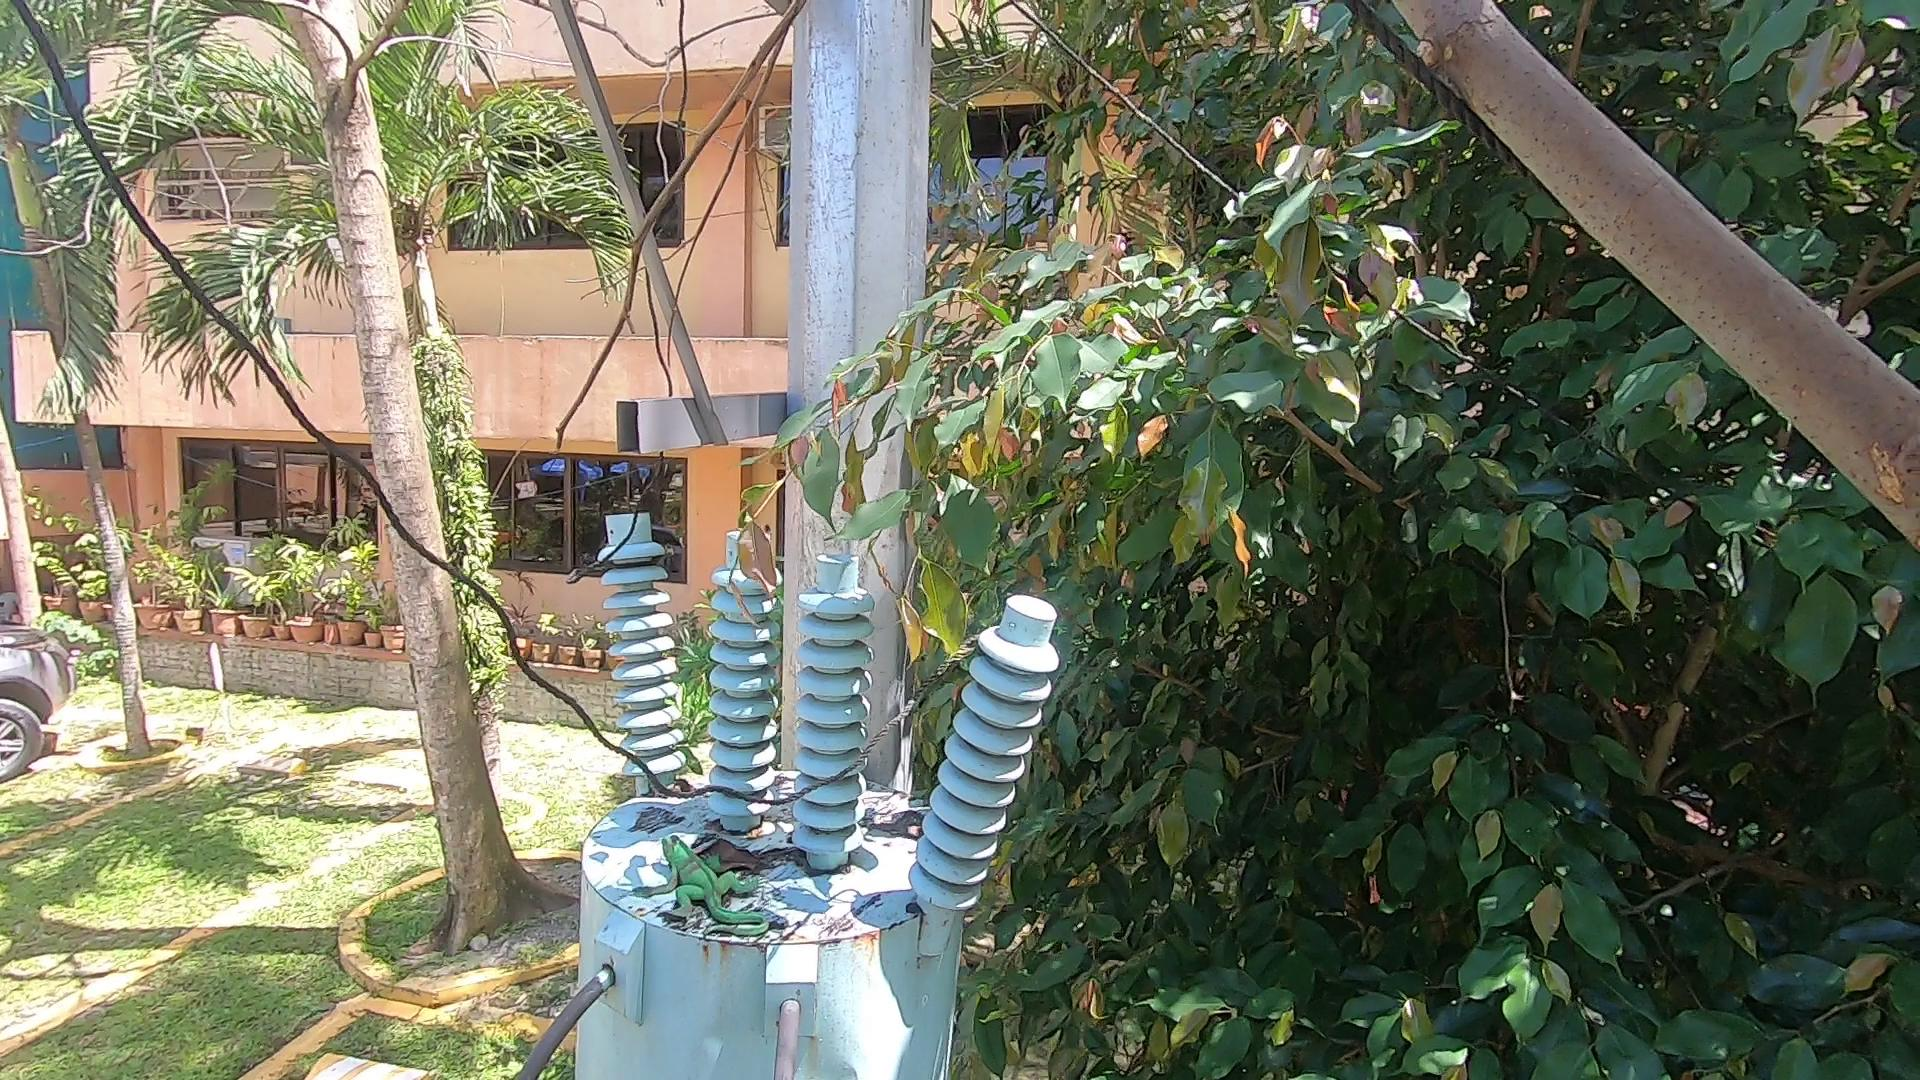branch with leaves: (731, 280, 1087, 670)
leaf: (687, 822, 816, 886), (868, 799, 924, 847), (658, 771, 705, 799)
tree branch: (1395, 24, 1920, 527)
